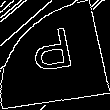P_S: (29, 27, 81, 83)
